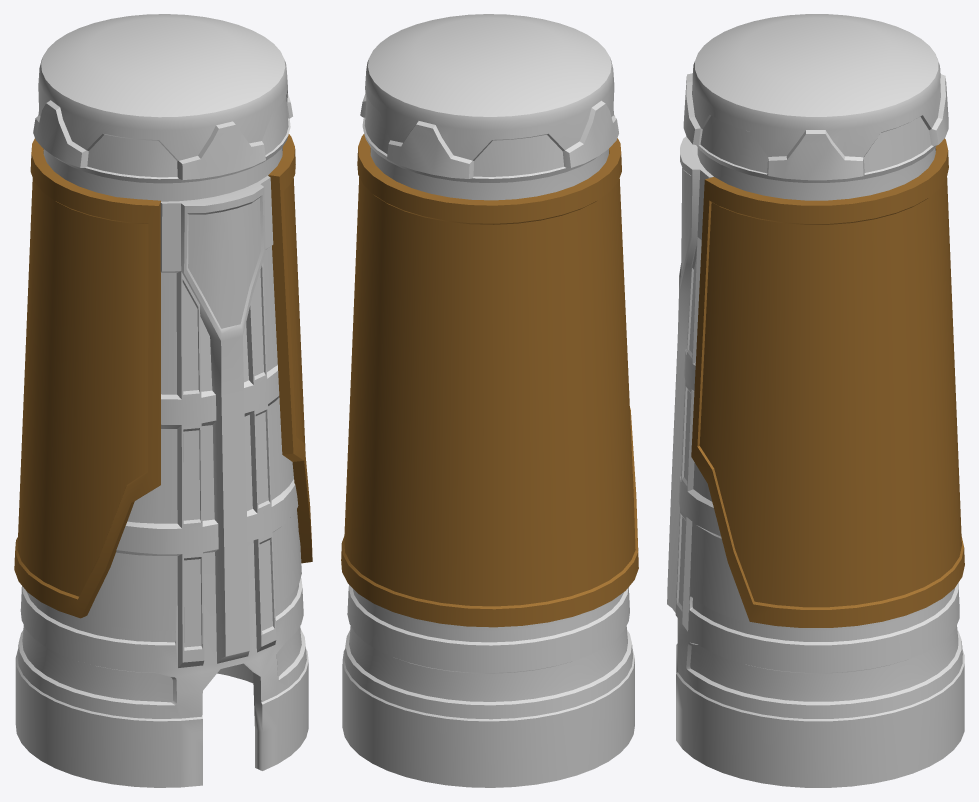
The model's file is Tourtuto.fbx.
3 renders of one model, left to right at view 1: azimuth 30°, elevation 25°; view 2: azimuth 150°, elevation 25°; view 3: azimuth 270°, elevation 25°, orthographic.
Parts seen in each view (by area): view 1: Tour.Low, Sup.Low; view 2: Sup.Low, Tour.Low; view 3: Sup.Low, Tour.Low.
Part boxes in pixels (x1,y1,x2,y2): Tour.Low: (15,14,308,787); Sup.Low: (14,134,312,618); Sup.Low: (341,134,638,627); Tour.Low: (342,14,634,787); Sup.Low: (691,138,964,627); Tour.Low: (667,14,964,787).
Size of the model in its own units: 8089 by 20279 by 8093.
